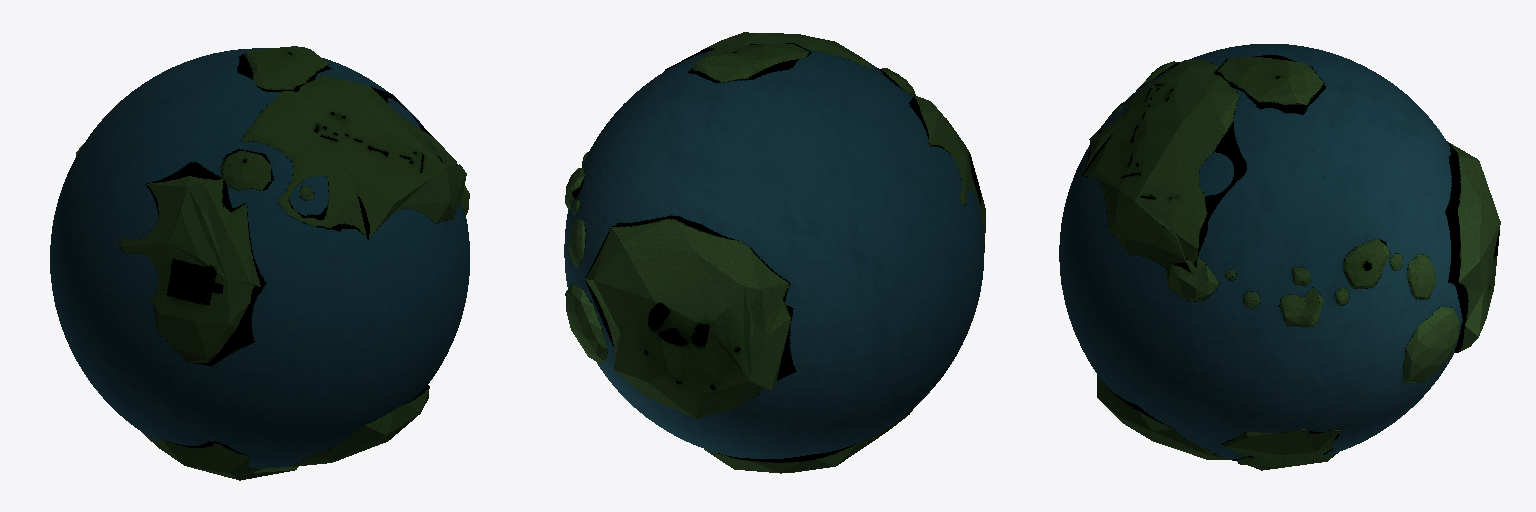
3 renders of one model, left to right at view 1: azimuth 30°, elevation 25°; view 2: azimuth 150°, elevation 25°; view 3: azimuth 270°, elevation 25°, orthographic.
Parts seen in each view (by area): view 1: Planet_Planet-mesh; view 2: Planet_Planet-mesh; view 3: Planet_Planet-mesh.
Part boxes in pixels (left/top/right/bottom): Planet_Planet-mesh: left=50, top=46, right=469, bottom=480; Planet_Planet-mesh: left=564, top=32, right=985, bottom=473; Planet_Planet-mesh: left=1059, top=44, right=1500, bottom=470.
Bounding box in the file's own units: 22.33 × 22.98 × 23.3.
Materials: 2 (1 with a texture image).